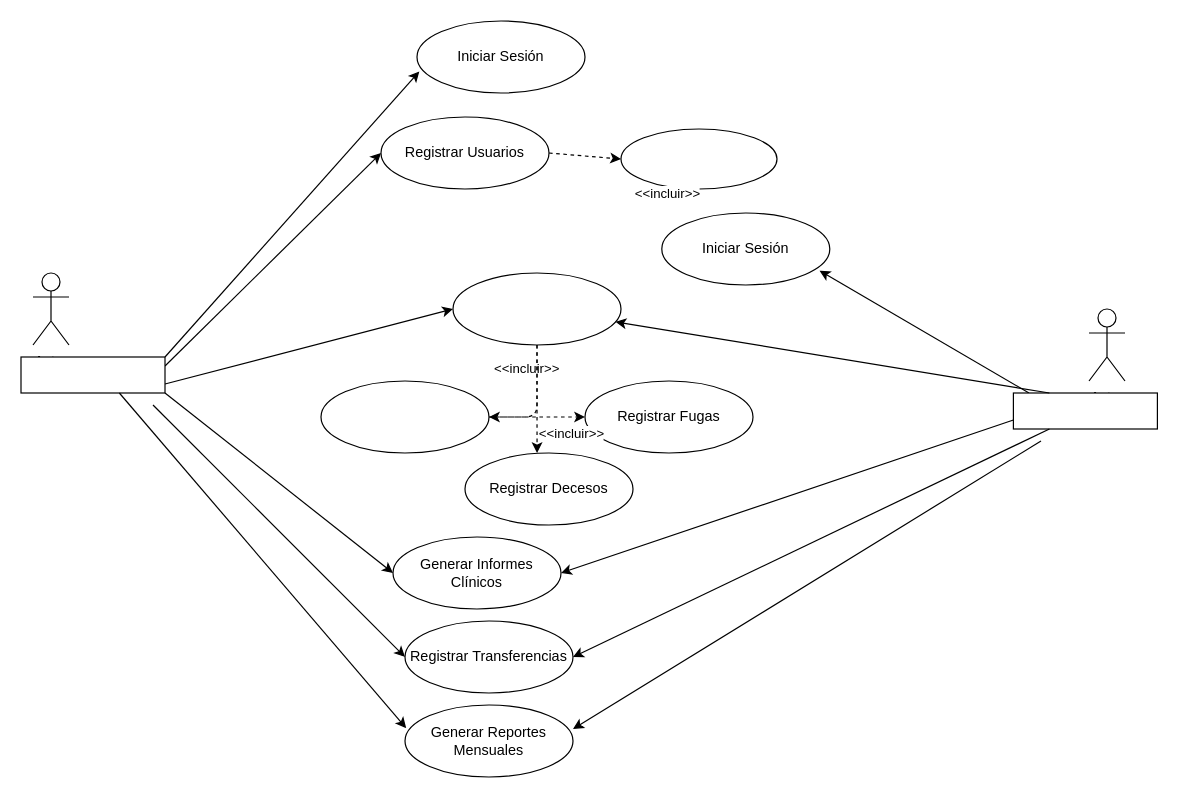
Image size: 1178x798. Some labels were removed from this diagram. Each missing label, with the centre of its shape:
ADMISTRADOR: the point at 92,374
Asignar Roles: the point at 698,158
Registrar Animales: the point at 536,308
Registrar Nacimientos: the point at 404,416
SUARIO: the point at 1084,410
